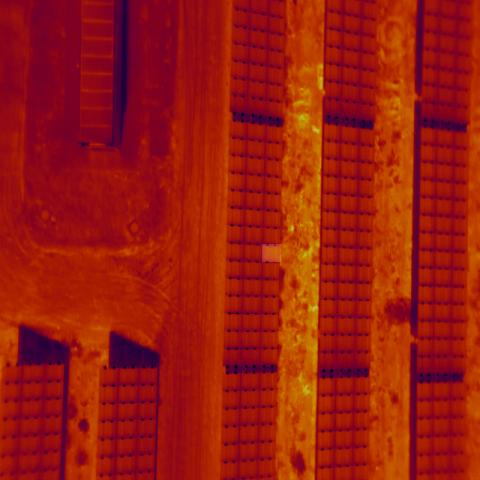fault: (262, 244, 281, 262)
